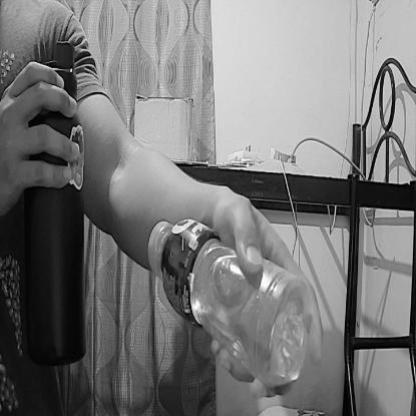Plastic Bottle: (139, 200, 319, 393)
